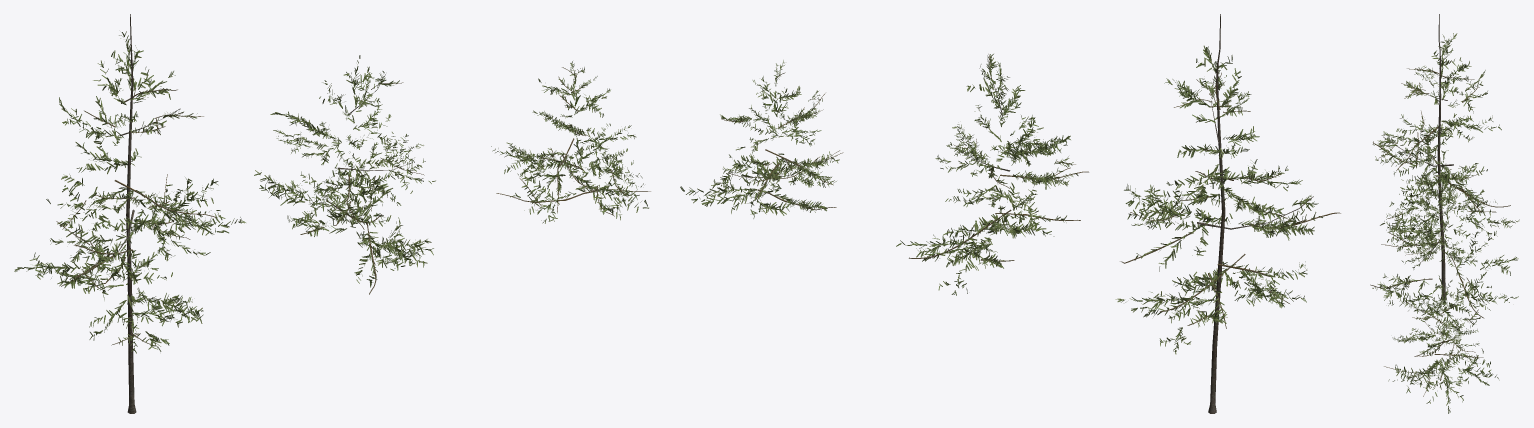
Rendered from fir_sapling.glb.
The picture shows the model from 3 angles, left to right: view 1: azimuth 30°, elevation 25°; view 2: azimuth 150°, elevation 25°; view 3: azimuth 270°, elevation 25°; orthographic projection. The views are drawn at different scales.
Visible parts, largest first — view 1: fir_sapling_lod0; view 2: fir_sapling_lod0; view 3: fir_sapling_lod0.
Boxes of the visible parts, box(x1,y1,x2,y2) form: fir_sapling_lod0: box(14, 14, 650, 413); fir_sapling_lod0: box(680, 14, 1340, 413); fir_sapling_lod0: box(1370, 14, 1519, 413).
Size of what is drawn, in the model's own units: 2.73 by 1.72 by 0.8241.
2 materials, 2 textured.
